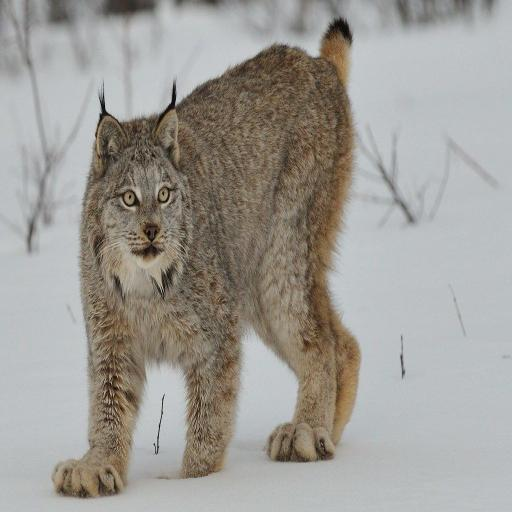lynx: (53, 22, 365, 504)
